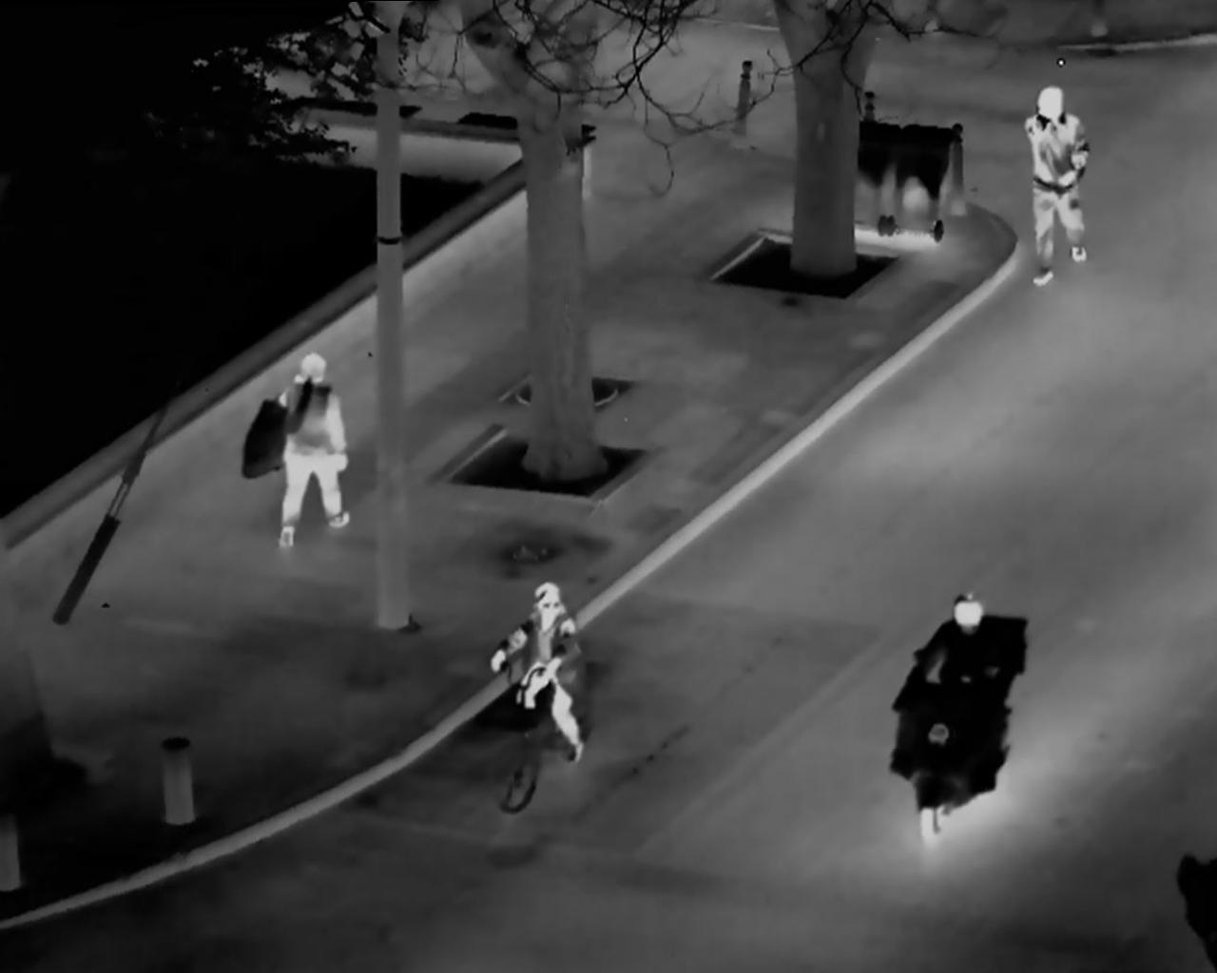person: (896, 564, 1031, 848), (490, 567, 603, 784), (1005, 70, 1106, 300), (252, 345, 361, 556)
